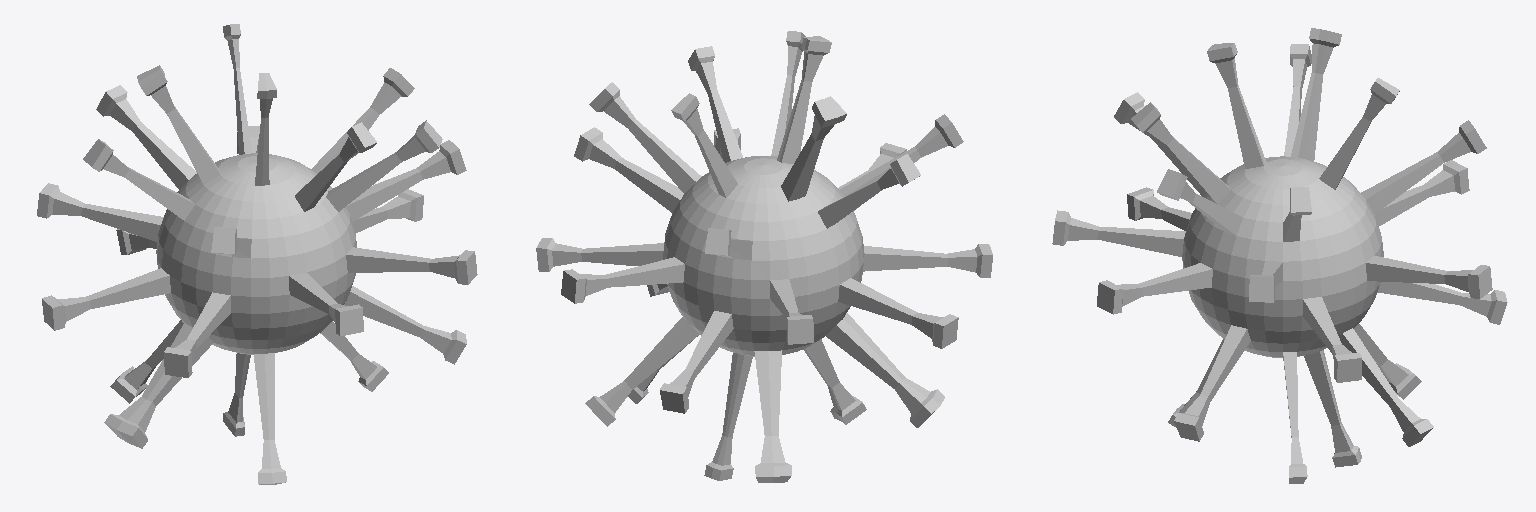
Rendered from uploads_files_745381_Microbe.obj.
3 views of the same model, side by side, from view 1: azimuth 30°, elevation 25°; view 2: azimuth 150°, elevation 25°; view 3: azimuth 270°, elevation 25° (orthographic).
Visible parts, largest first — view 1: mic001; view 2: mic001; view 3: mic001.
Boxes of the visible parts, box(x1,y1,x2,y2) form: mic001: box(37, 24, 477, 484); mic001: box(536, 31, 992, 482); mic001: box(1052, 28, 1507, 483).
Size of the model in its own units: 10.35 by 10.22 by 10.35.